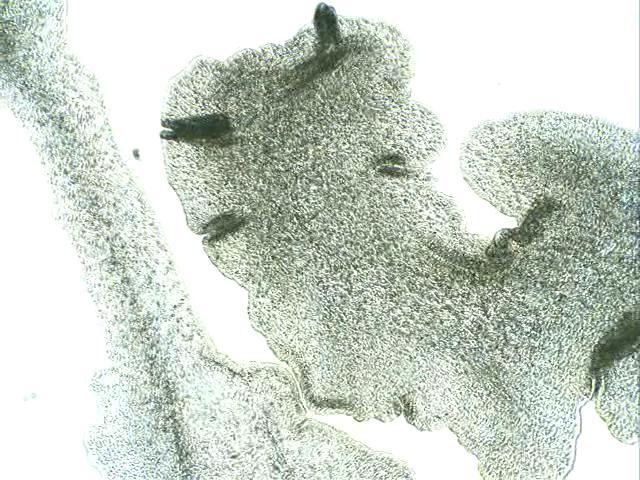Placozoan: (159, 0, 640, 480)
